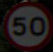Speed limit: (2, 2, 48, 44)
